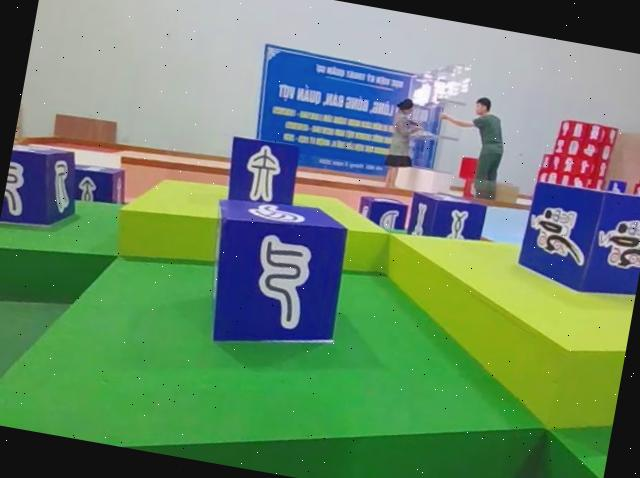R1 Blue: (516, 174, 640, 300)
R2 Fake Blue: (192, 191, 353, 363), (0, 139, 80, 238), (223, 132, 303, 211)
R2 Real Blue: (404, 188, 486, 246), (68, 159, 129, 206), (353, 193, 408, 232)
